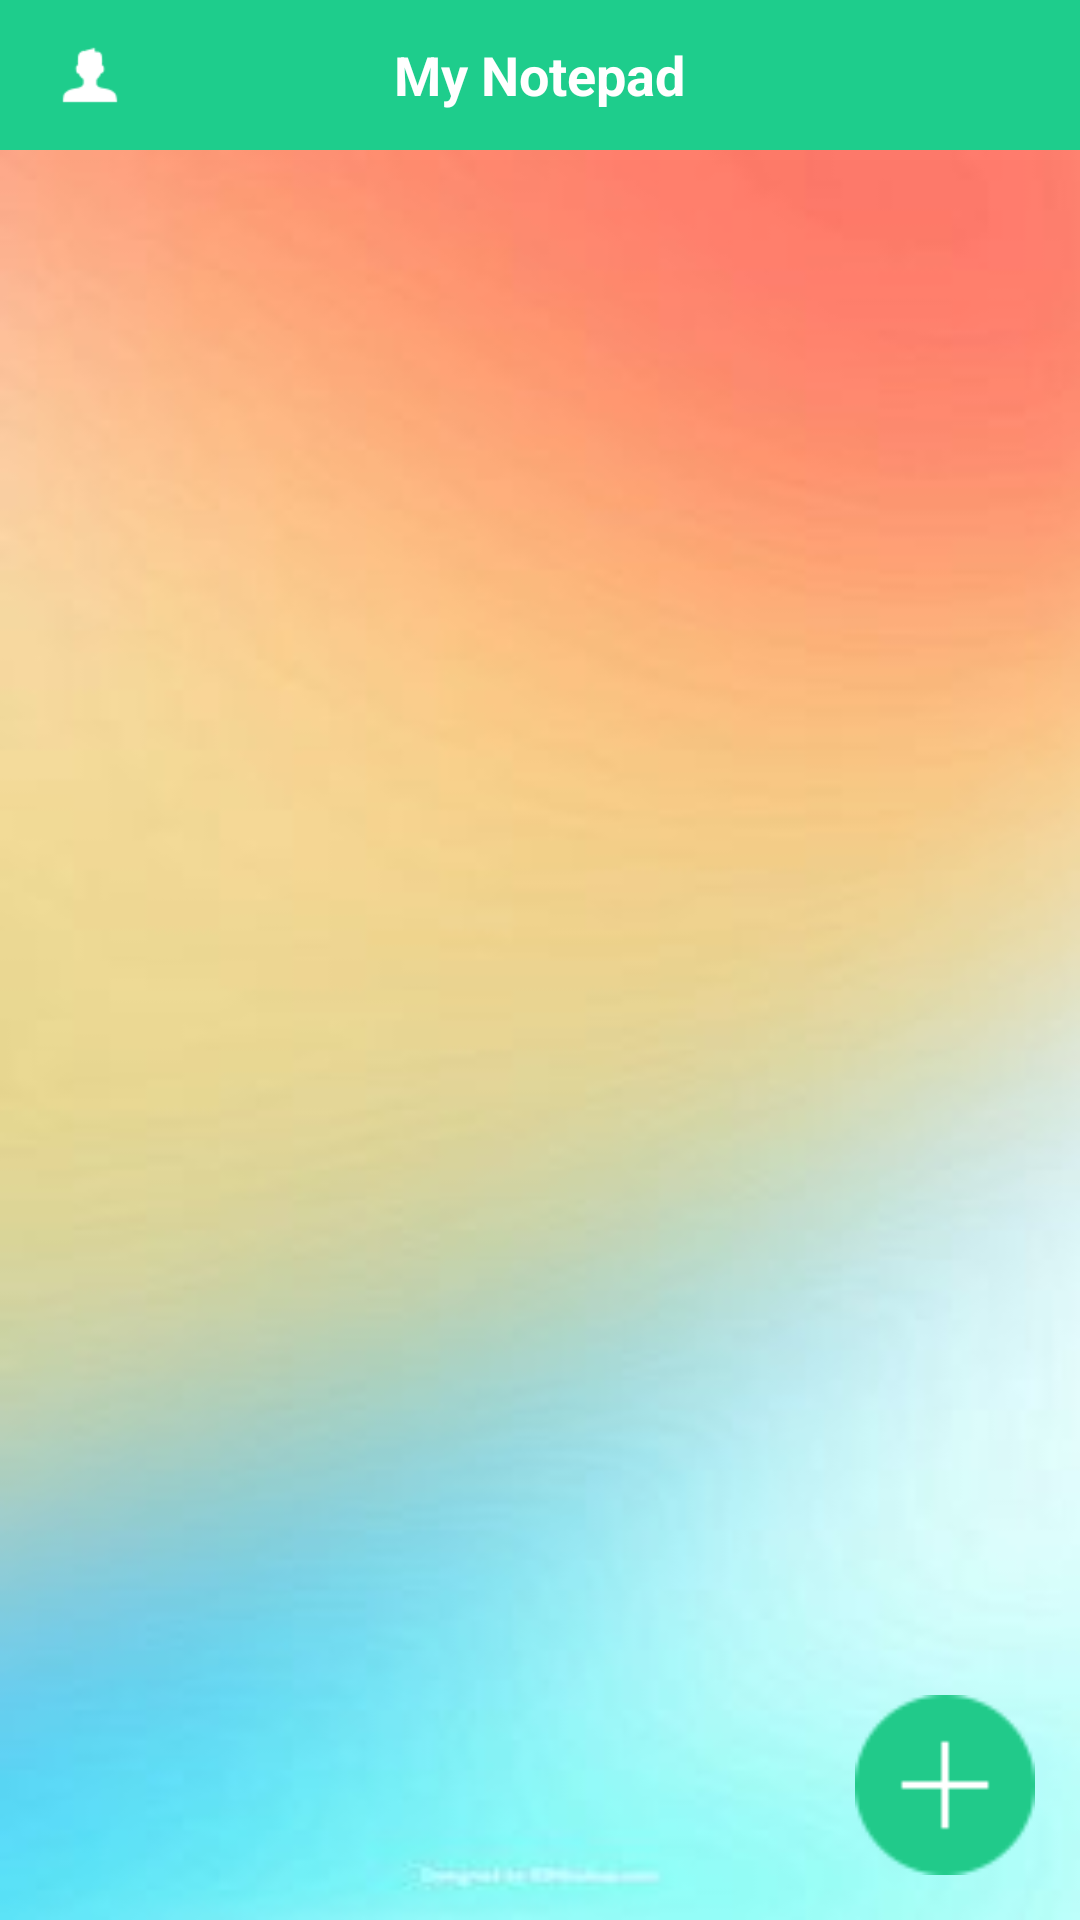

Screen size 1080w x 1920h. Icon name, then its center in pixels as point (x, y):
add: point (945, 1785)
person info: point (90, 75)
